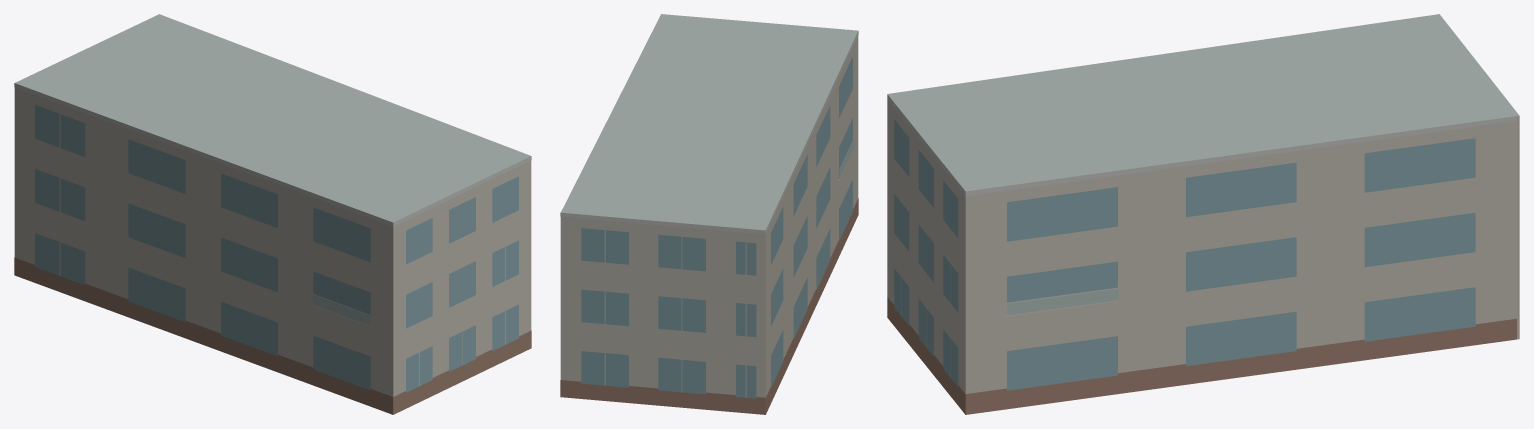
File: survey-upis-32612489.glb
3 views of the same model, side by side, from view 1: azimuth 30°, elevation 25°; view 2: azimuth 150°, elevation 25°; view 3: azimuth 270°, elevation 25° (orthographic). The views are drawn at different scales.
Visible parts, largest first — view 1: survey-upis-32612489.tmp; view 2: survey-upis-32612489.tmp; view 3: survey-upis-32612489.tmp.
Boxes of the visible parts, x1=… form: survey-upis-32612489.tmp: x1=14, y1=14, x2=531, y2=414; survey-upis-32612489.tmp: x1=560, y1=14, x2=858, y2=414; survey-upis-32612489.tmp: x1=887, y1=14, x2=1519, y2=414.
Bounding box in the file's own units: 19.08 × 11.2 × 28.74.
